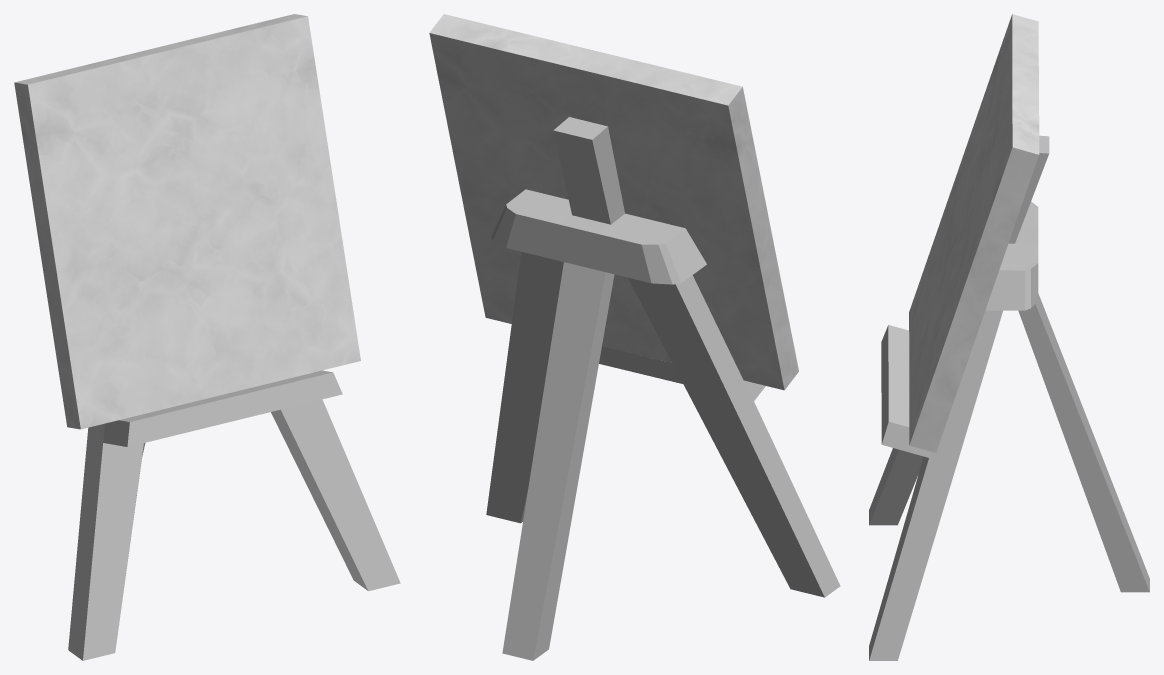
The model's file is segurador de quadros.fbx.
3 views of the same model, side by side, from view 1: azimuth 30°, elevation 25°; view 2: azimuth 150°, elevation 25°; view 3: azimuth 270°, elevation 25° (orthographic). The views are drawn at different scales.
Visible parts, largest first — view 1: quadro, segurador de quadros; view 2: segurador de quadros, quadro; view 3: segurador de quadros, quadro.
Part boxes in pixels (x1=…): quadro: x1=14, y1=14, x2=360, y2=429; segurador de quadros: x1=68, y1=370, x2=400, y2=660; segurador de quadros: x1=486, y1=117, x2=840, y2=660; quadro: x1=429, y1=14, x2=798, y2=390; segurador de quadros: x1=869, y1=135, x2=1149, y2=660; quadro: x1=909, y1=14, x2=1039, y2=452.
Size of the model in its own units: 109 by 170 by 85.86.
